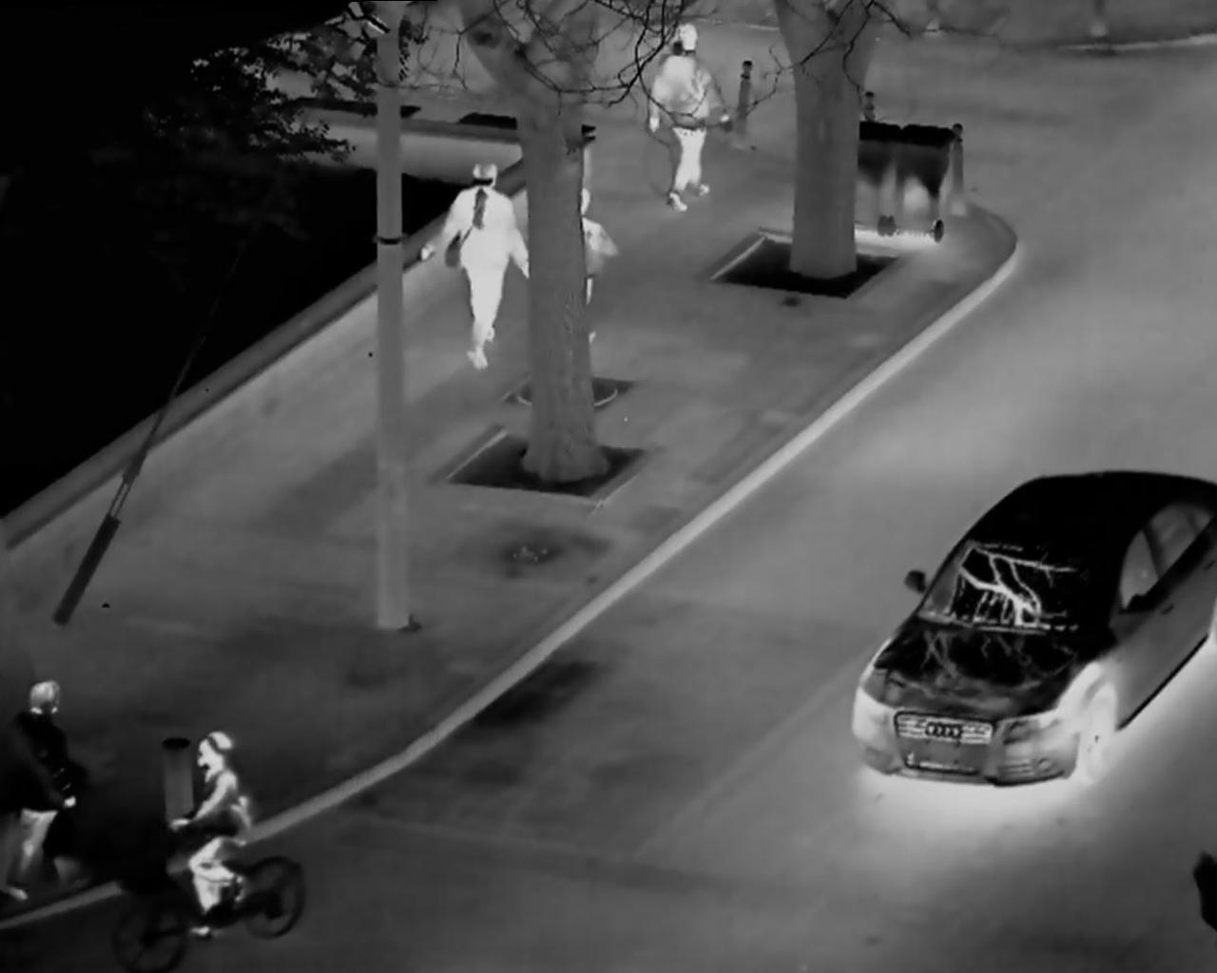person: (146, 723, 264, 940), (431, 148, 533, 386), (9, 667, 72, 928), (652, 15, 732, 209)
